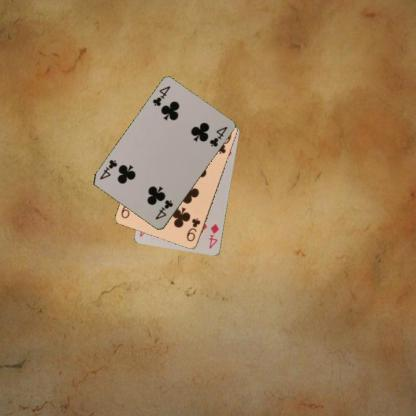4c: (150, 83, 172, 108), (152, 198, 174, 221)
4d: (206, 221, 220, 250)
9c: (184, 216, 202, 243)
